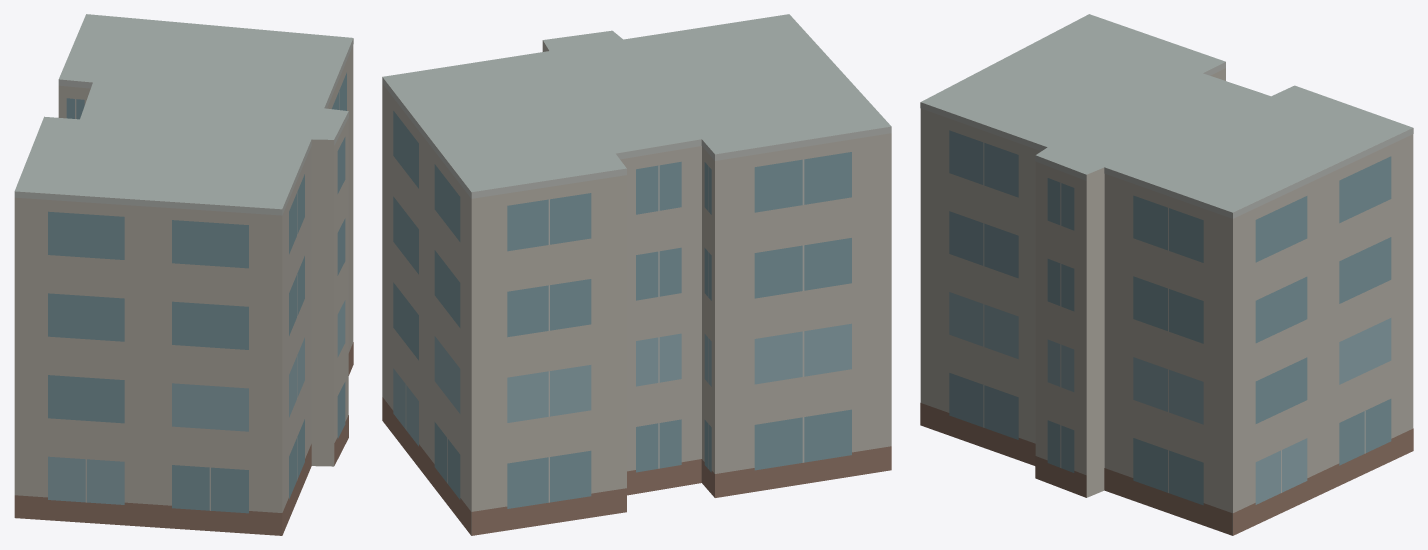
File: survey-upis-33043032.glb
3 renders of one model, left to right at view 1: azimuth 30°, elevation 25°; view 2: azimuth 150°, elevation 25°; view 3: azimuth 270°, elevation 25°, orthographic. The views are drawn at different scales.
Visible parts, largest first — view 1: survey-upis-33043032.tmp; view 2: survey-upis-33043032.tmp; view 3: survey-upis-33043032.tmp.
Boxes of the visible parts, box(x1,y1,x2,y2) form: survey-upis-33043032.tmp: box(14, 14, 353, 535); survey-upis-33043032.tmp: box(382, 14, 891, 535); survey-upis-33043032.tmp: box(920, 14, 1413, 535).
Bounding box in the file's own units: 16.76 × 12.7 × 17.57.
